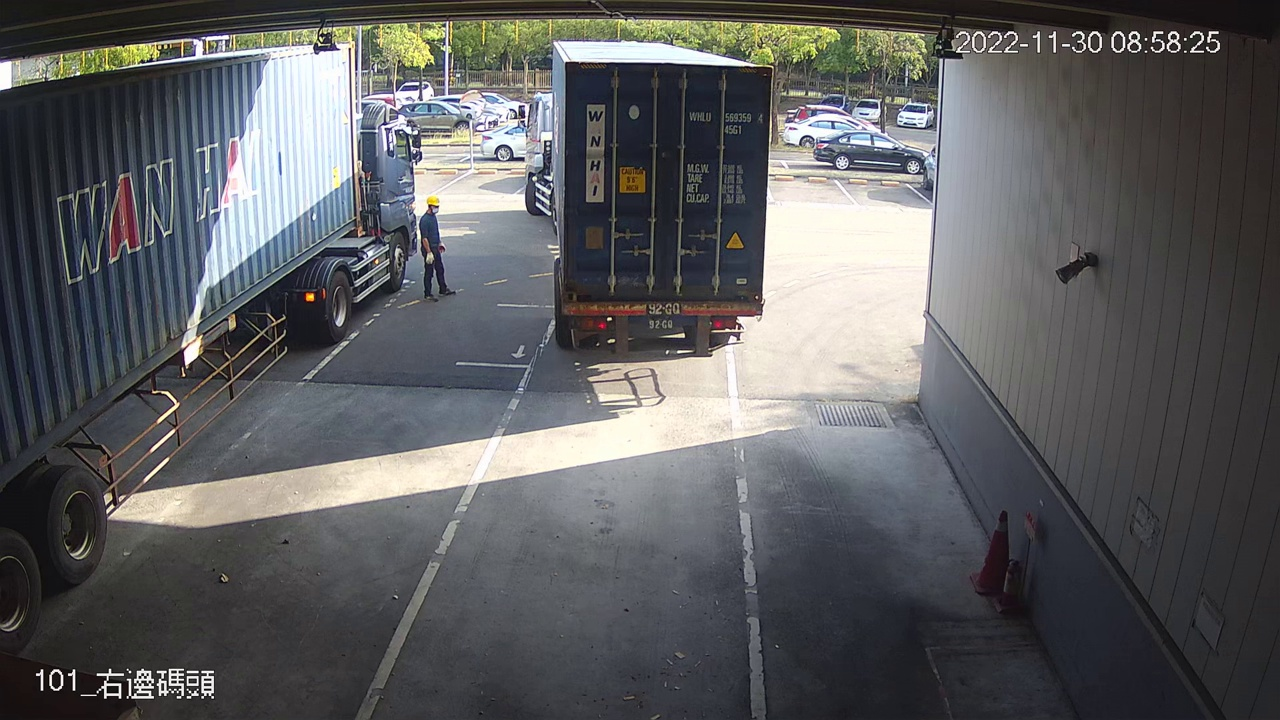container: (685, 106, 767, 140)
